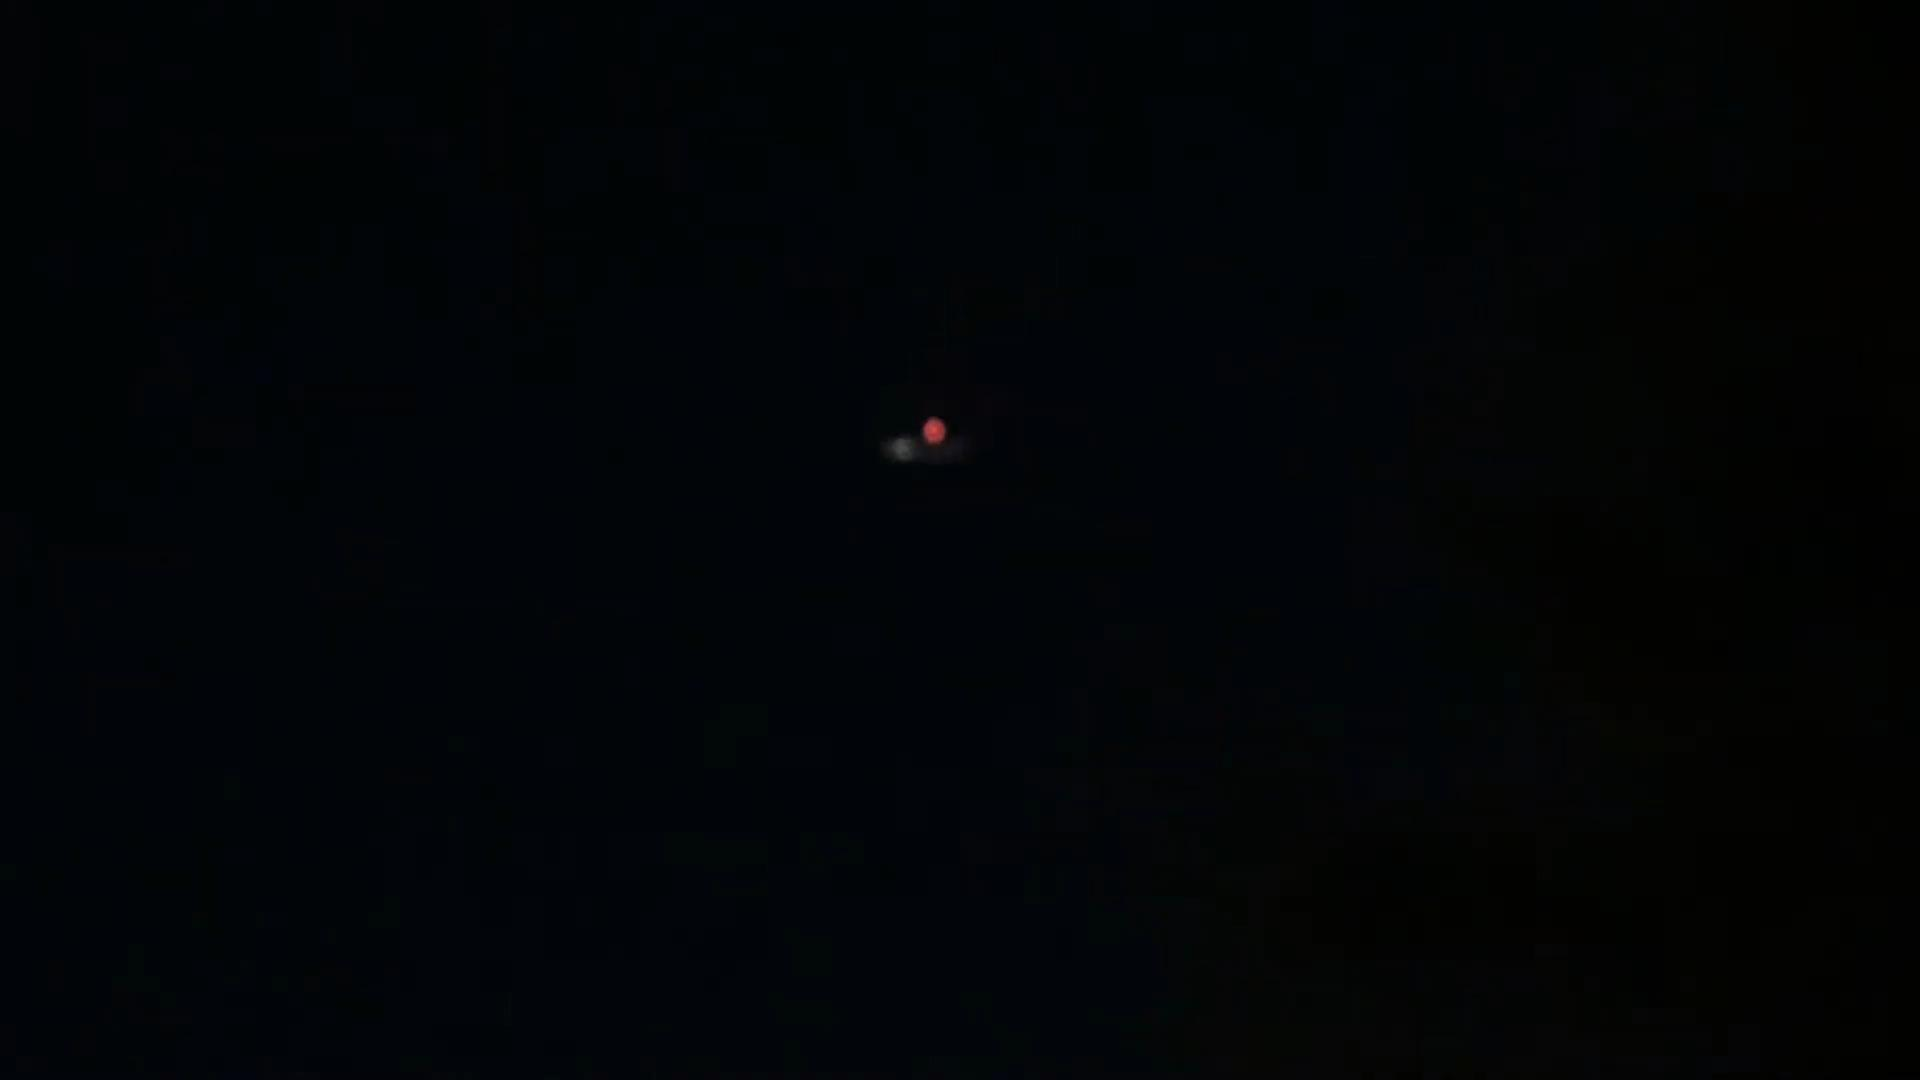Plane: (819, 392, 1019, 485)
